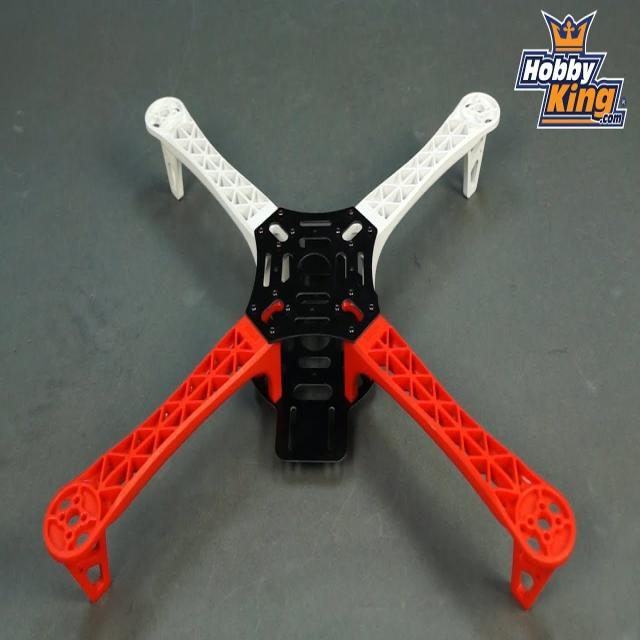drone: (35, 75, 590, 624)
